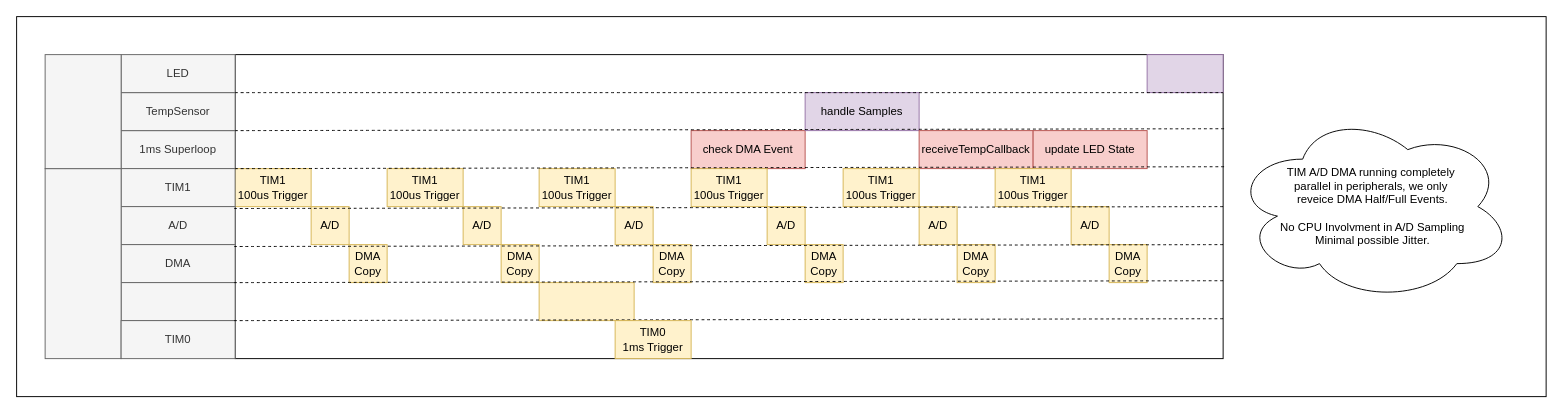
Image size: 1563x413. Some labels were removed from this diagram. Each missing label, with the centre of its shape:
DMA IRQ (Post DMA Event): (x=586, y=301)
Drive GPIO: (x=1184, y=73)
IRQ: (x=177, y=301)
MCU Hardware Layer: (x=82, y=263)
SW Layer: (x=82, y=111)
